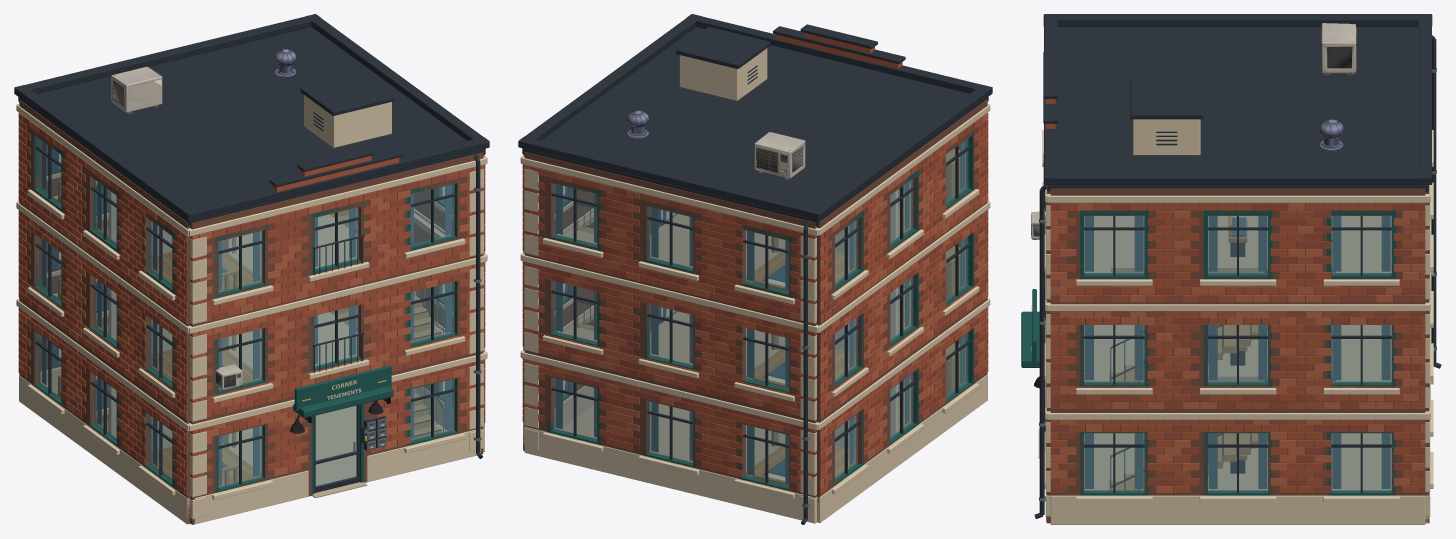
The model's file is tenement.glb.
3 renders of one model, left to right at view 1: azimuth 30°, elevation 25°; view 2: azimuth 150°, elevation 25°; view 3: azimuth 270°, elevation 25°, orthographic. The views are drawn at different scales.
Visible parts, largest first — view 1: roof-apt-navy--1, shell-apt-cream--1, shell-apt-grout--1, brick-detail-apt-brick--1, shell-apt-glass--1, brick-detail-apt-brick2--1, brick-detail-apt-brick3--1, shell-apt-teal--1, shell-apt-navy--1, interior-apt-stone-0, door glass, roof-apt-cream--1 (+18 smaller); view 2: roof-apt-navy--1, shell-apt-cream--1, shell-apt-grout--1, brick-detail-apt-brick--1, shell-apt-glass--1, brick-detail-apt-brick3--1, brick-detail-apt-brick2--1, shell-apt-teal--1, shell-apt-navy--1, roof-apt-cream--1, interior-apt-stone-0, interior-apt-blue-0 (+15 smaller); view 3: roof-apt-navy--1, shell-apt-glass--1, brick-detail-apt-brick--1, shell-apt-cream--1, shell-apt-grout--1, brick-detail-apt-brick3--1, brick-detail-apt-brick2--1, shell-apt-teal--1, shell-apt-navy--1, interior-apt-stone-2, interior-apt-stone-0, interior-apt-stone-1 (+8 smaller).
Part boxes in pixels (x1,y1,x2,y2): roof-apt-navy--1: (14,14,489,226); shell-apt-cream--1: (16,104,487,524); shell-apt-grout--1: (19,99,484,524); brick-detail-apt-brick--1: (18,113,485,495); shell-apt-glass--1: (38,138,454,487); brick-detail-apt-brick2--1: (18,121,485,476); brick-detail-apt-brick3--1: (18,116,485,493); shell-apt-teal--1: (34,135,457,495); shell-apt-navy--1: (35,146,482,484); interior-apt-stone-0: (222,406,447,485); door glass: (315,406,357,486); roof-apt-cream--1: (304,95,391,147); roof-apt-navy--1: (518,14,992,225); shell-apt-cream--1: (520,103,990,523); shell-apt-grout--1: (523,99,987,523); brick-detail-apt-brick--1: (522,117,988,494); shell-apt-glass--1: (553,138,968,486); brick-detail-apt-brick3--1: (522,119,988,474); brick-detail-apt-brick2--1: (522,112,988,491); shell-apt-teal--1: (547,129,974,489); shell-apt-navy--1: (551,145,971,524); roof-apt-cream--1: (679,48,767,100); interior-apt-stone-0: (560,402,784,471); interior-apt-blue-0: (555,307,964,484); roof-apt-navy--1: (1043,14,1432,191); shell-apt-glass--1: (1084,216,1391,491); brick-detail-apt-brick--1: (1045,203,1429,492); shell-apt-cream--1: (1042,130,1433,524); shell-apt-grout--1: (1046,185,1429,523); brick-detail-apt-brick3--1: (1045,203,1429,492); brick-detail-apt-brick2--1: (1045,202,1429,492); shell-apt-teal--1: (1021,210,1395,495); shell-apt-navy--1: (1034,35,1441,518); interior-apt-stone-2: (1084,216,1391,272); interior-apt-stone-0: (1084,433,1391,490); interior-apt-stone-1: (1084,324,1391,381).
Size of the model in its own units: 10.45 by 11.23 by 11.21.
Materials: 21 (4 with a texture image).
